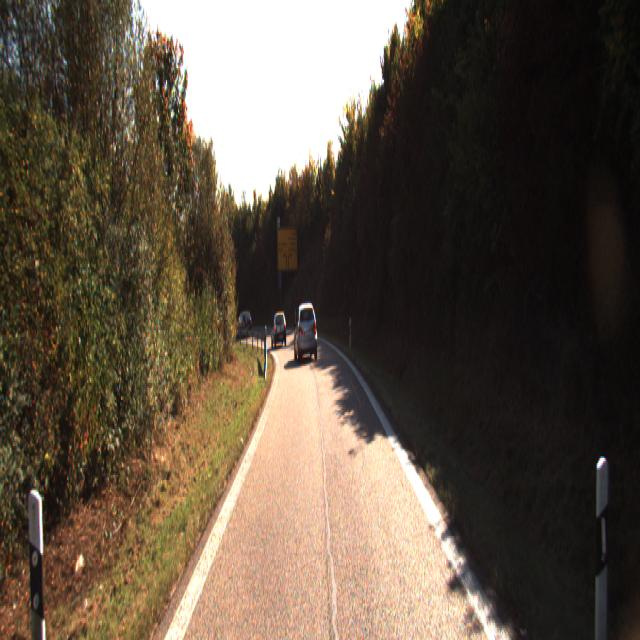Car: (294, 300, 318, 360), (271, 312, 287, 348), (235, 310, 252, 336)
